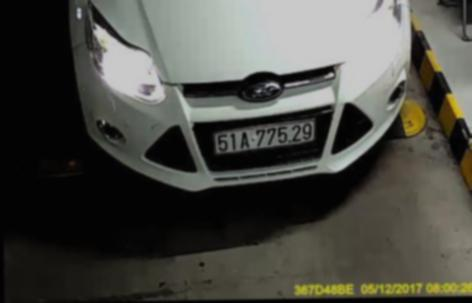License_Plate: (211, 120, 317, 154)
